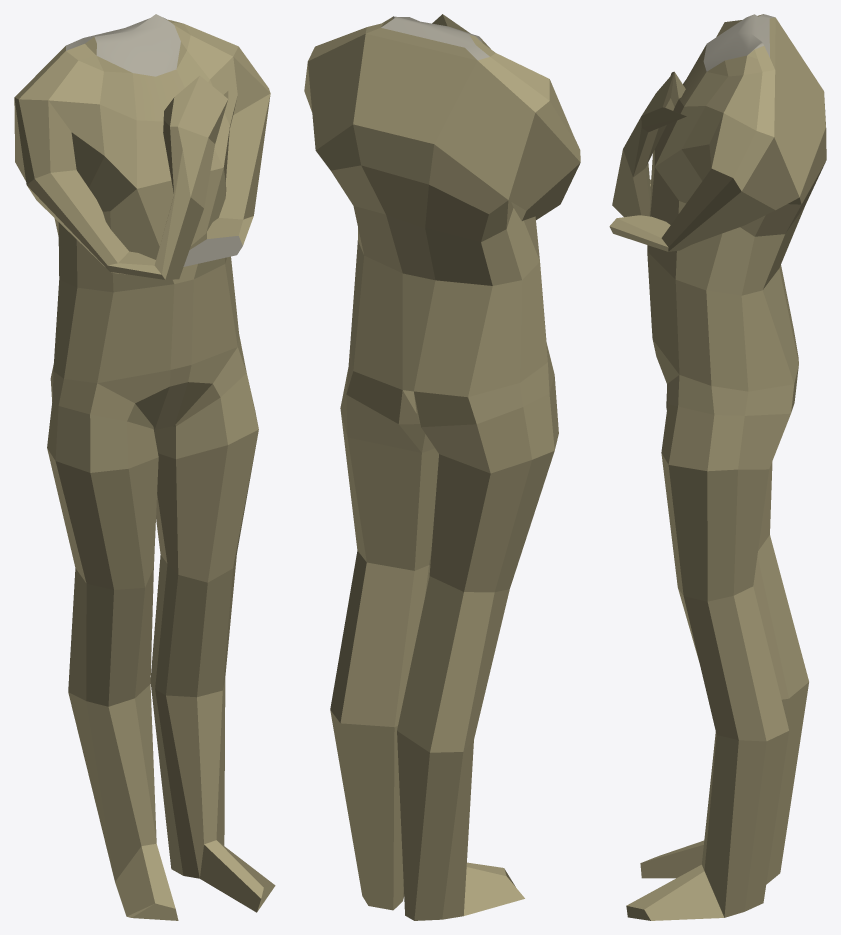
The model's file is Stand_Statue_C.fbx.
3 views of the same model, side by side, from view 1: azimuth 30°, elevation 25°; view 2: azimuth 150°, elevation 25°; view 3: azimuth 270°, elevation 25° (orthographic). The views are drawn at different scales.
Parts seen in each view (by area): view 1: Statue1; view 2: Statue1; view 3: Statue1.
Boxes of the visible parts, x1=… form: Statue1: x1=14, y1=14, x2=275, y2=920; Statue1: x1=304, y1=14, x2=580, y2=920; Statue1: x1=609, y1=14, x2=826, y2=920.
Size of the model in its own units: 42.66 by 140 by 31.99.
